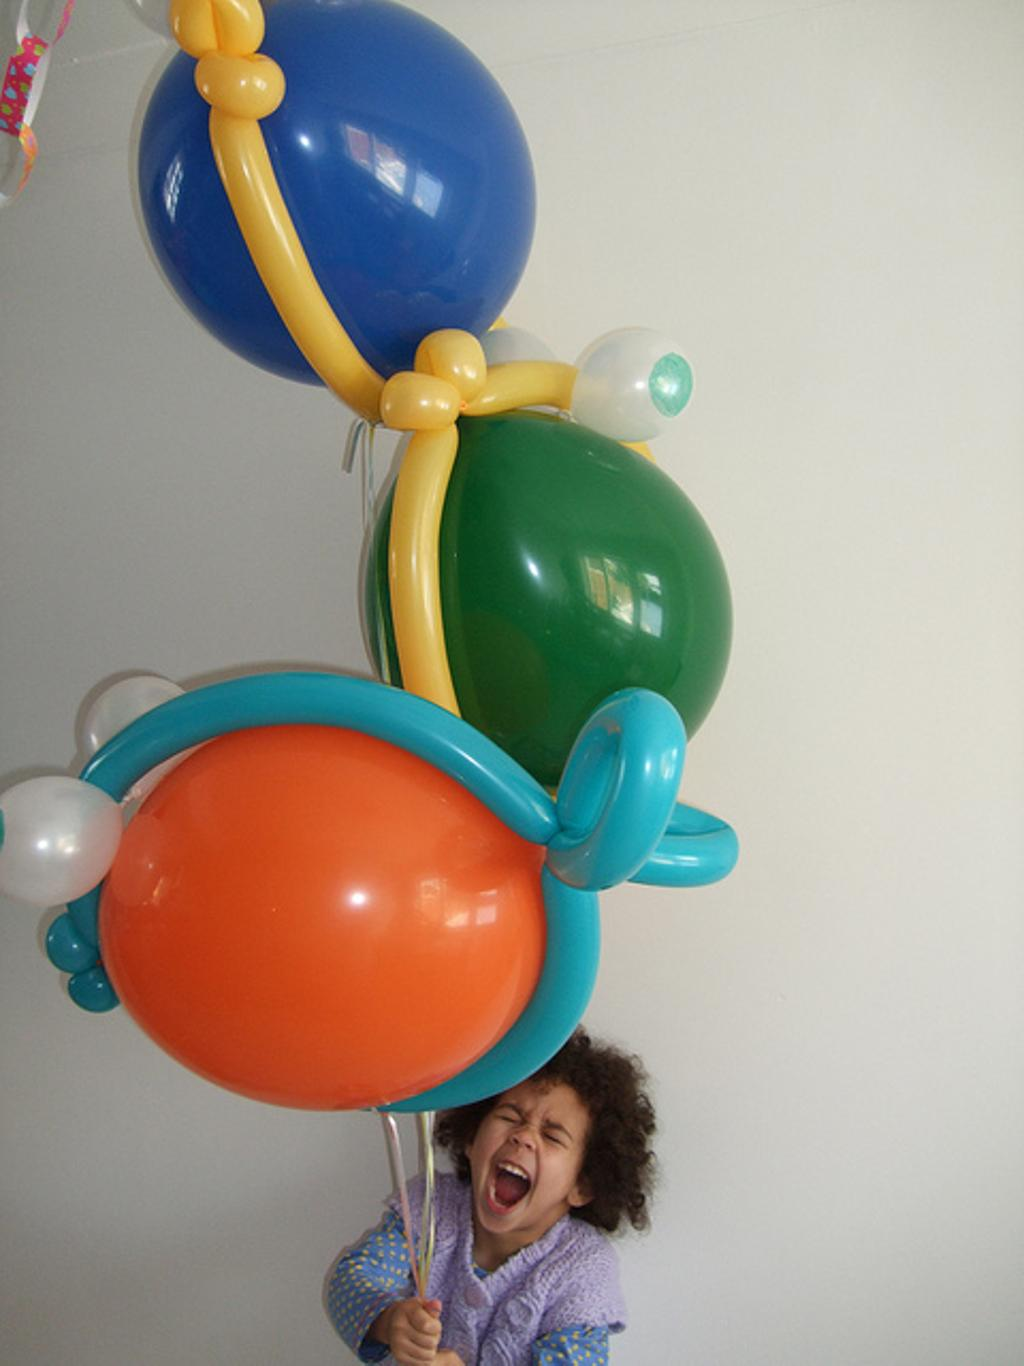face: (469, 1080, 589, 1235)
